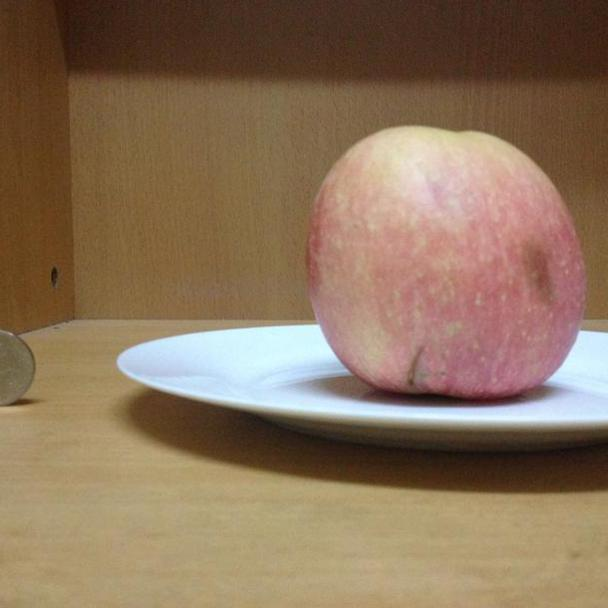apple: (305, 125, 588, 399)
